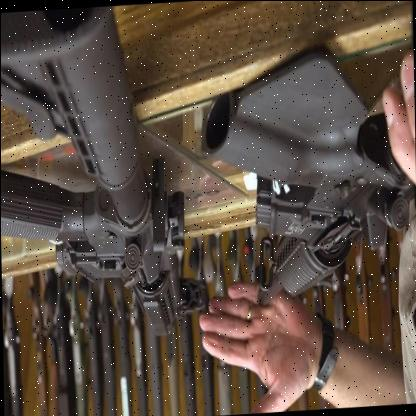rifle: (0, 1, 204, 346), (244, 127, 416, 318)
